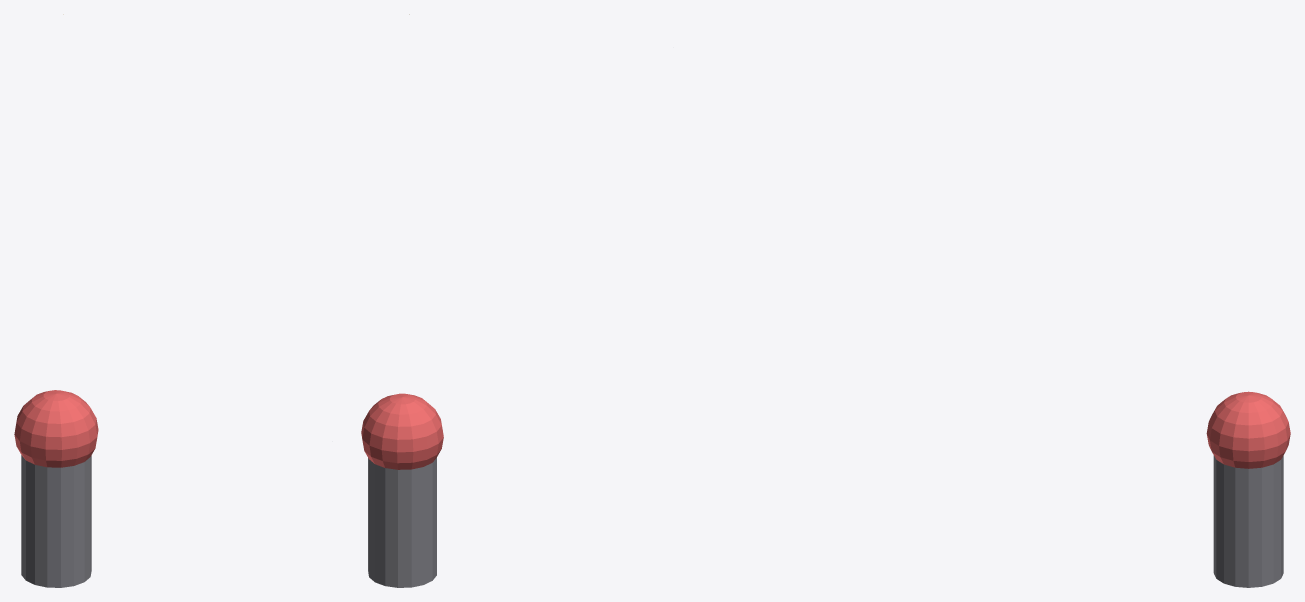
File: firework_cookie_3d.glb
3 views of the same model, side by side, from view 1: azimuth 30°, elevation 25°; view 2: azimuth 150°, elevation 25°; view 3: azimuth 270°, elevation 25° (orthographic).
Parts seen in each view (by area): view 1: firework_tube, firework_shell; view 2: firework_tube, firework_shell; view 3: firework_tube, firework_shell.
Part boxes in pixels (x1,y1,x2,y2): firework_tube: (21, 455, 91, 587); firework_shell: (14, 390, 98, 467); firework_tube: (368, 457, 436, 587); firework_shell: (361, 393, 443, 469); firework_tube: (1213, 455, 1283, 587); firework_shell: (1206, 391, 1290, 468).
Size of the model in its own units: 0.12 by 0.8804 by 0.84.
